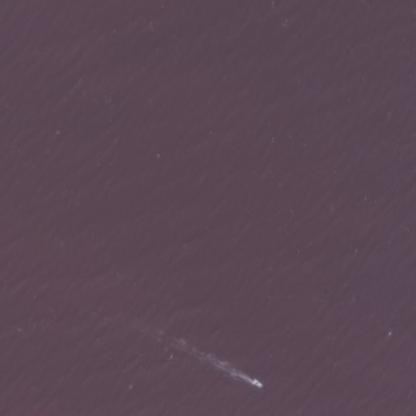ship: (250, 376, 262, 389)
